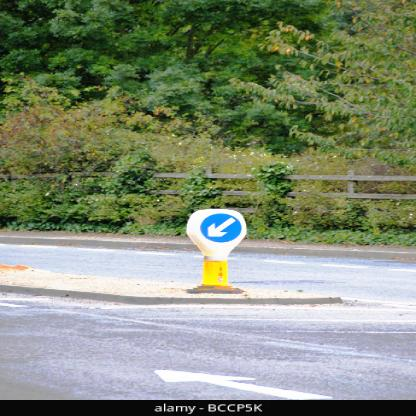Keep left: (194, 207, 250, 245)
